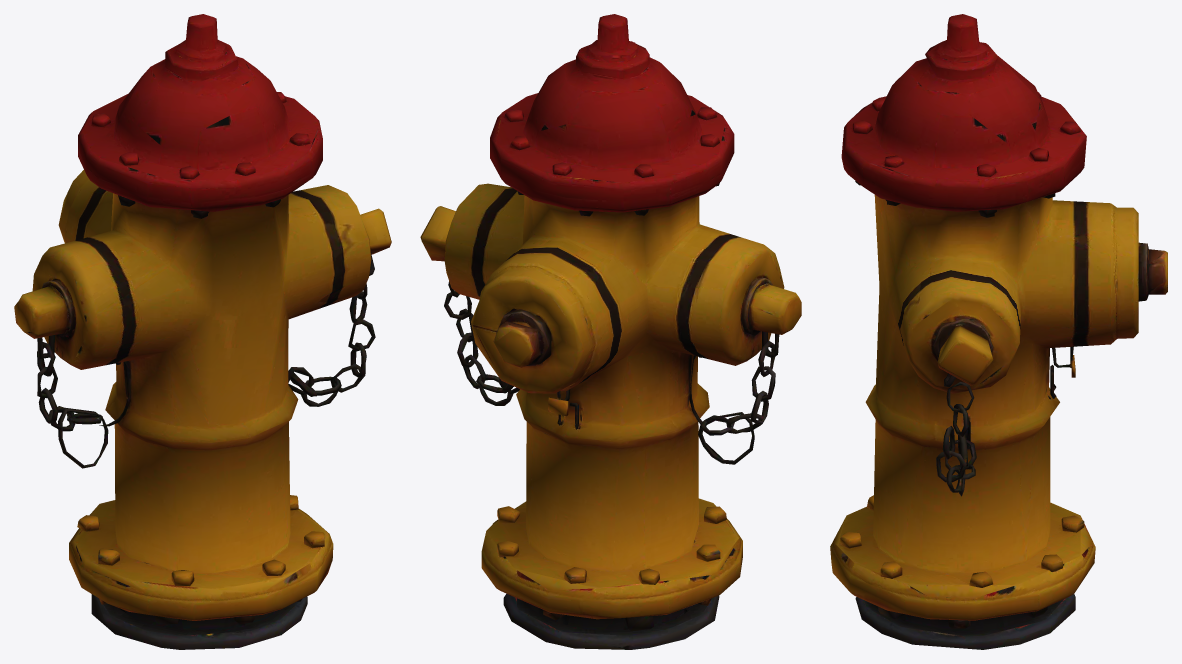
File: fire_hydrant.glb
The picture shows the model from 3 angles, left to right: view 1: azimuth 30°, elevation 25°; view 2: azimuth 150°, elevation 25°; view 3: azimuth 270°, elevation 25°; orthographic projection.
Visible parts, largest first — view 1: fire_hydrant; view 2: fire_hydrant; view 3: fire_hydrant.
Part boxes in pixels (x1,y1,x2,y2): fire_hydrant: [14, 14, 391, 649]; fire_hydrant: [420, 14, 801, 649]; fire_hydrant: [830, 14, 1167, 649].
Size of the model in its own units: 0.5119 by 0.8 by 0.418.
Materials: 1 (1 with a texture image).
